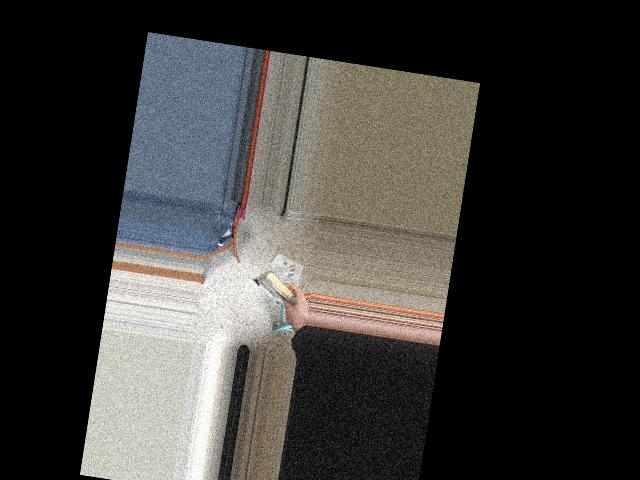cheese: (248, 266, 311, 311)
